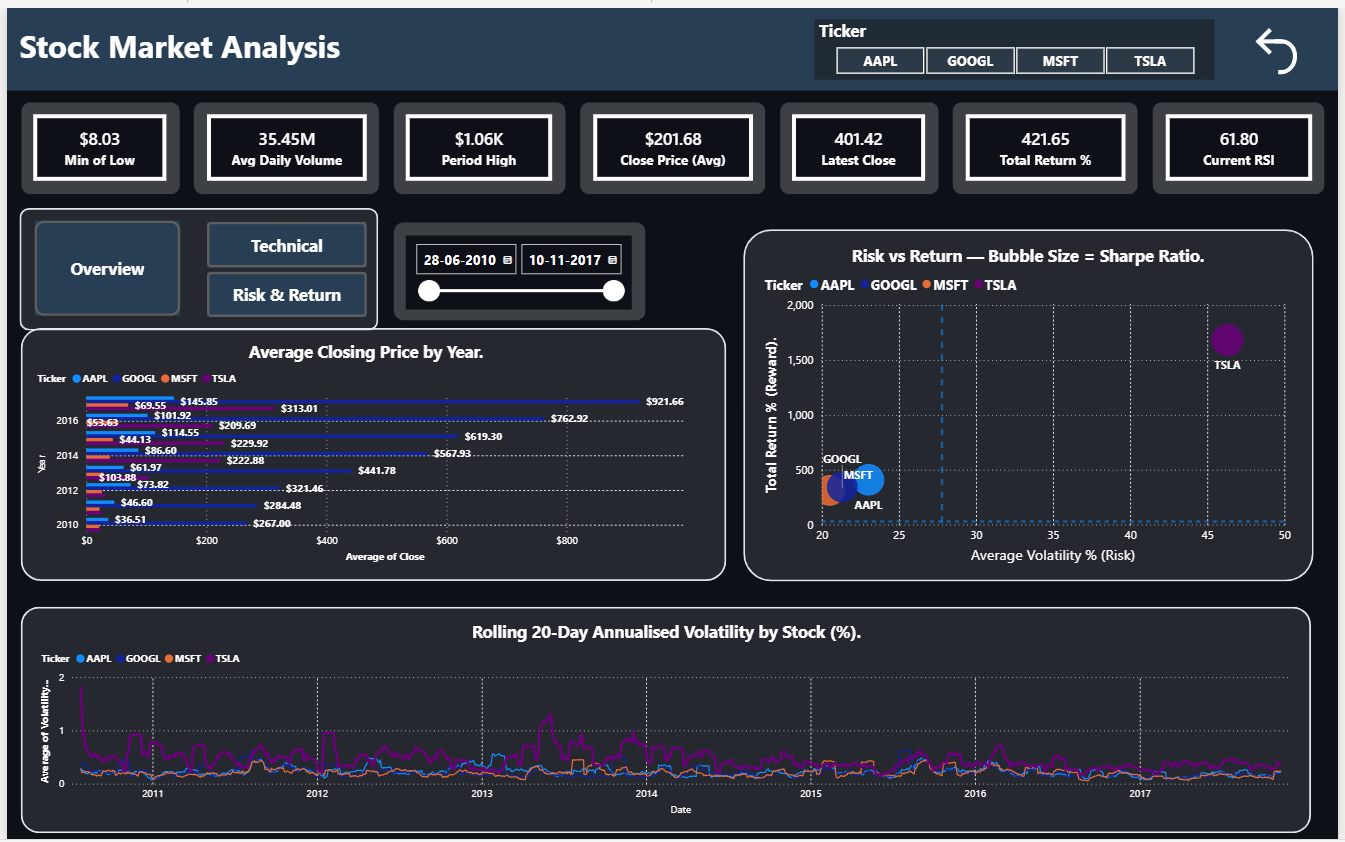

The dashboard page shown, as its layout file describes it:
{"tool":"powerbi","page":{"name":"Risk & Return","canvas":[1600,1000],"ordinal":2},"visuals":[{"type":"shape","box":[15.5,240.4,431.1,147.3],"z":0,"group":"g1"},{"type":"shape","box":[885.6,265.2,685.5,423.4],"z":0},{"type":"shape","box":[688,112,224,112],"z":1000,"group":"g1"},{"type":"shape","box":[16,384,848,304],"z":1000},{"type":"shape","box":[464,112,208,112],"z":2000,"group":"g1"},{"type":"shape","box":[16.4,719.7,1550.8,272.1],"z":2000},{"type":"shape","box":[224,112,224,112],"z":3000,"group":"g1"},{"type":"lineChart","title":"Rolling 20-Day Annualised Volatility by Stock (%).","fields":{"Category":["dim_date.Date.Variation.Date Hierarchy.Year"],"Y":["Avg(Stocks_daily.Volatility_20d)"],"Series":["Stocks_daily.Ticker"]},"box":[36.1,736.1,1513.1,239.3],"z":3000},{"type":"shape","box":[16,112,192,112],"z":4000,"group":"g1"},{"type":"scatterChart","title":" Risk vs Return — Bubble Size = Sharpe Ratio.","fields":{"X":["Measures (2).Avg Volatility %"],"Y":["Measures (2).Total Return %"],"Size":["Measures (2).Sharpe Ratio"],"Series":["Stocks_daily.Ticker"]},"box":[906.6,283.6,642.6,388.5],"z":4000},{"type":"textbox","title":"Stock Market Analysis","box":[0,0,1600.5,99.3],"z":5000,"group":"g1"},{"type":"clusteredBarChart","title":"Average Closing Price by Year.","fields":{"Y":["Avg(Stocks_daily.Close)"],"Category":["dim_date.Year"],"Series":["Stocks_daily.Ticker"]},"box":[32,400,800,272],"z":5000},{"type":"group","id":"g1","title":"Group 2","box":[0,0,1600.5,387.7],"z":5001},{"type":"shape","box":[463.7,257.4,304,119.4],"z":6000,"group":"g1"},{"type":"slicer","title":"Ticker","fields":{"Values":["Stocks_daily.Ticker"]},"box":[971.1,13,480.9,72.7],"z":7000,"group":"g1"},{"type":"shape","box":[1376,112,208,112],"z":8000,"group":"g1"},{"type":"shape","box":[1136,112,224,112],"z":9000,"group":"g1"},{"type":"cardVisual","fields":{"Data":["Avg(Stocks_daily.Close)"]},"box":[704,128,192,80],"z":10000,"group":"g1"},{"type":"shape","box":[928,112,192,112],"z":11000,"group":"g1"},{"type":"cardVisual","fields":{"Data":["Max(Stocks_daily.High)"]},"box":[480,128,176,80],"z":12000,"group":"g1"},{"type":"cardVisual","fields":{"Data":["Min(Stocks_daily.Low)"]},"box":[32,128,160,80],"z":13000,"group":"g1"},{"type":"cardVisual","fields":{"Data":["Avg(Stocks_daily.Volume)"]},"box":[240,128,192,80],"z":14000,"group":"g1"},{"type":"cardVisual","fields":{"Data":["Measures (2).Latest Close"]},"box":[944,128,160,80],"z":15000,"group":"g1"},{"type":"cardVisual","fields":{"Data":["Measures (2).Total Return %"]},"box":[1152,128,192,80],"z":16000,"group":"g1"},{"type":"cardVisual","fields":{"Data":["Measures (2).Current RSI"]},"box":[1392,128,176,80],"z":17000,"group":"g1"},{"type":"slicer","fields":{"Values":["dim_date.Date"]},"box":[479.2,273,271.4,88.4],"z":18000,"group":"g1"},{"type":"actionButton","title":"Overview","box":[32.6,255.9,175.2,114.8],"z":19000,"group":"g1"},{"type":"actionButton","title":"Overview","box":[240.4,316.4,192.3,54.3],"z":20000,"group":"g1"},{"type":"actionButton","title":"Overview","box":[240.4,257.4,192,55],"z":21000,"group":"g1"},{"type":"actionButton","box":[1480,14.9,93.2,72.7],"z":22000,"group":"g1"}]}

Visuals, with their boxes in screenshot pixels (x1, y1, x2, y2), scaled from the page's 1600x1000 canvas onto the 1345x842 screenshot:
shape: [left=13, top=202, right=375, bottom=326]
shape: [left=744, top=223, right=1321, bottom=580]
shape: [left=578, top=94, right=767, bottom=189]
shape: [left=13, top=323, right=726, bottom=579]
shape: [left=390, top=94, right=565, bottom=189]
shape: [left=14, top=606, right=1317, bottom=835]
shape: [left=188, top=94, right=377, bottom=189]
"Rolling 20-Day Annualised Volatility by Stock (%)." lineChart: [left=30, top=620, right=1302, bottom=821]
shape: [left=13, top=94, right=175, bottom=189]
" Risk vs Return — Bubble Size = Sharpe Ratio." scatterChart: [left=762, top=239, right=1302, bottom=566]
"Stock Market Analysis" textbox: [left=0, top=0, right=1344, bottom=84]
"Average Closing Price by Year." clusteredBarChart: [left=27, top=337, right=699, bottom=566]
"Group 2" group: [left=0, top=0, right=1344, bottom=326]
shape: [left=390, top=217, right=645, bottom=317]
"Ticker" slicer: [left=816, top=11, right=1221, bottom=72]
shape: [left=1157, top=94, right=1332, bottom=189]
shape: [left=955, top=94, right=1143, bottom=189]
cardVisual - Avg(Stocks_daily.Close): [left=592, top=108, right=753, bottom=175]
shape: [left=780, top=94, right=942, bottom=189]
cardVisual - Max(Stocks_daily.High): [left=404, top=108, right=551, bottom=175]
cardVisual - Min(Stocks_daily.Low): [left=27, top=108, right=161, bottom=175]
cardVisual - Avg(Stocks_daily.Volume): [left=202, top=108, right=363, bottom=175]
cardVisual - Measures (2).Latest Close: [left=794, top=108, right=928, bottom=175]
cardVisual - Measures (2).Total Return %: [left=968, top=108, right=1130, bottom=175]
cardVisual - Measures (2).Current RSI: [left=1170, top=108, right=1318, bottom=175]
slicer - dim_date.Date: [left=403, top=230, right=631, bottom=304]
"Overview" actionButton: [left=27, top=215, right=175, bottom=312]
"Overview" actionButton: [left=202, top=266, right=364, bottom=312]
"Overview" actionButton: [left=202, top=217, right=363, bottom=263]
actionButton: [left=1244, top=13, right=1322, bottom=74]
